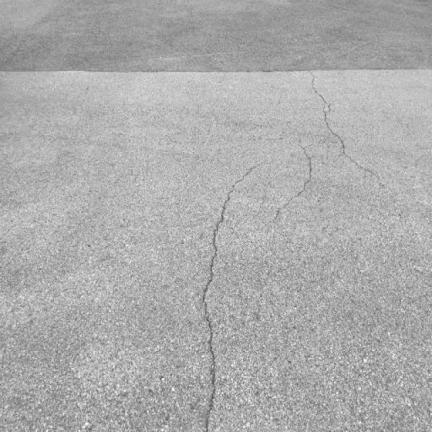Road: (0, 71, 431, 431)
